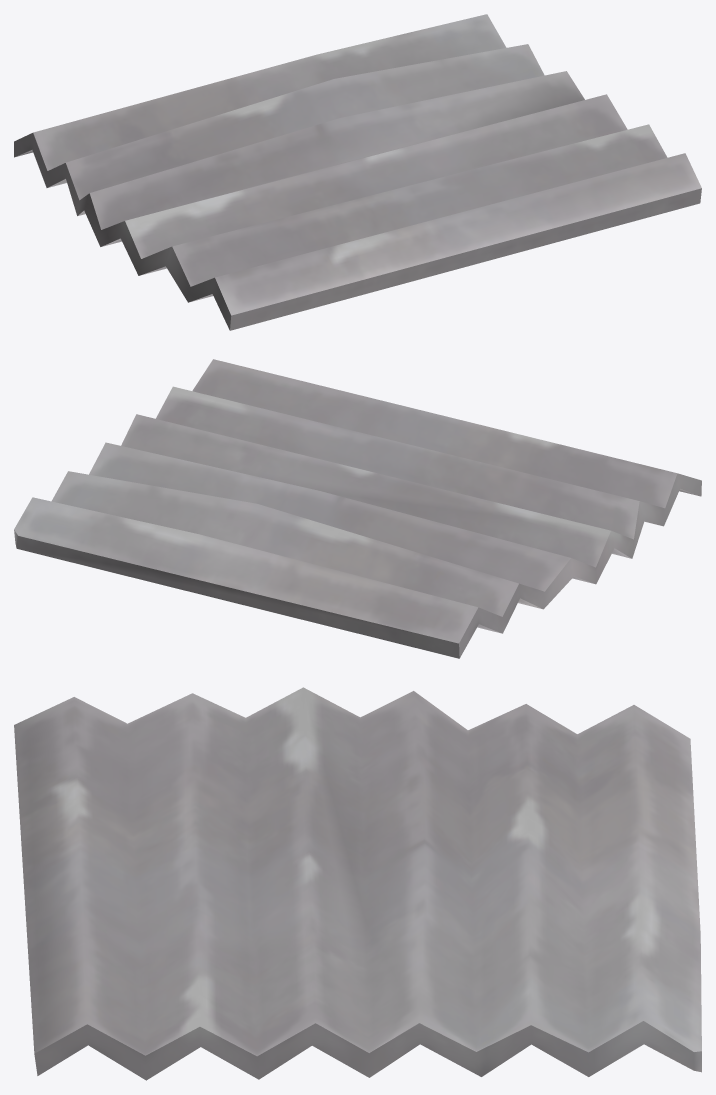
File: Pfb_MetalBoard__13.fbx
3 renders of one model, top to bottom at view 1: azimuth 30°, elevation 25°; view 2: azimuth 150°, elevation 25°; view 3: azimuth 270°, elevation 25°, orthographic. The views are drawn at different scales.
Parts seen in each view (by area): view 1: Mat_MetalBoard_01_1 1; view 2: Mat_MetalBoard_01_1 1; view 3: Mat_MetalBoard_01_1 1.
Part boxes in pixels (x1,y1,x2,y2): Mat_MetalBoard_01_1 1: (14, 14, 701, 330); Mat_MetalBoard_01_1 1: (14, 359, 701, 658); Mat_MetalBoard_01_1 1: (14, 687, 701, 1080).
Size of the model in its own units: 1.55 by 0.1676 by 1.29.
1 material, 1 textured.
